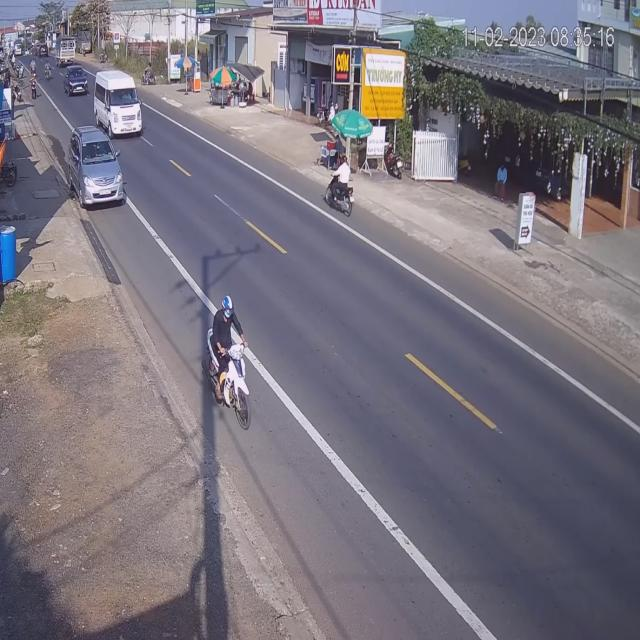bus: (96, 70, 145, 142)
car: (68, 125, 125, 208), (65, 64, 88, 96)
motorbike: (207, 296, 250, 427), (326, 161, 355, 218)
